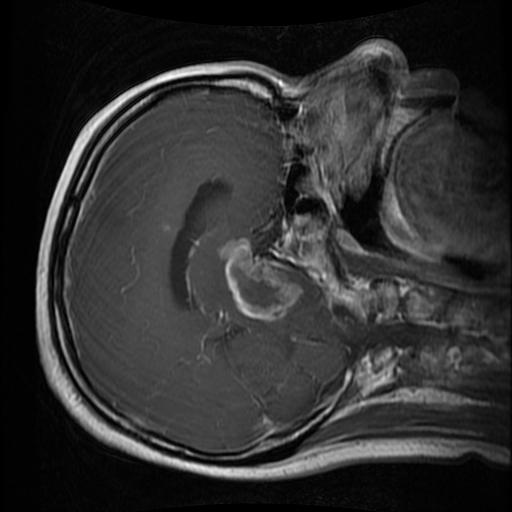glioma: (214, 236, 301, 322)
